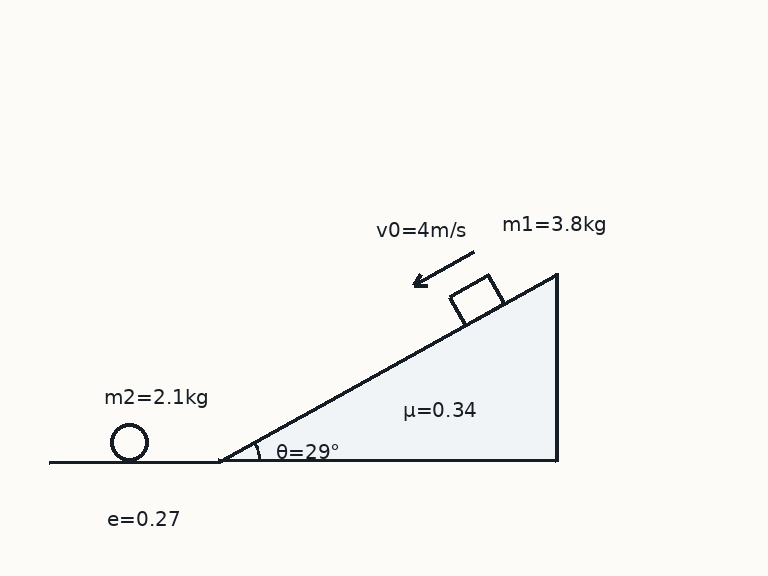ball: (108, 421, 150, 463)
block: (447, 273, 505, 327)
ramp: (217, 272, 559, 463)
